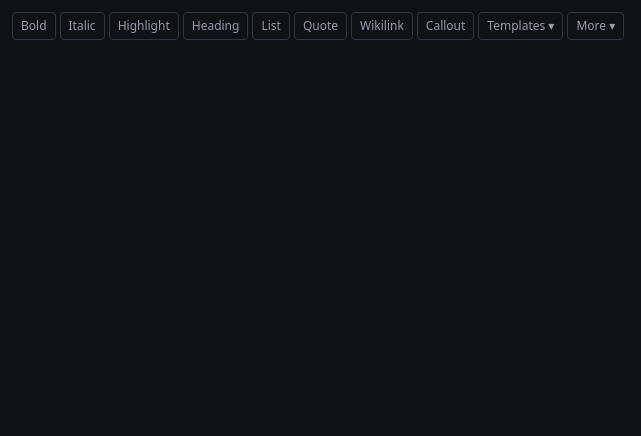
Test: FormatToolbar › hides the lower-frequency block actions until More is opened
Expected: the button "Footnote" is not shown
Expected: the button "Table" is not shown
Click the button "More ▾" at (596, 26), box [567, 12, 624, 40]
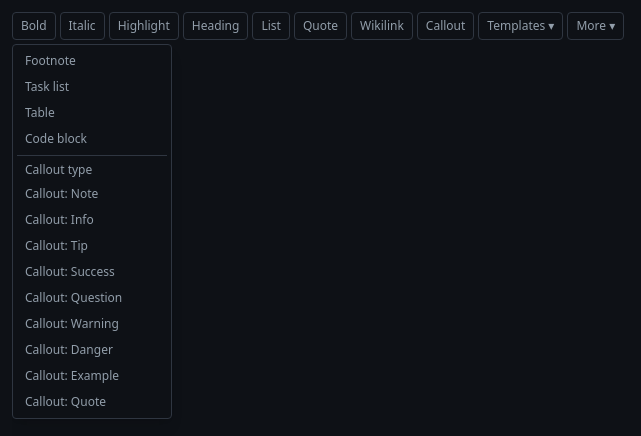
Expected: the button "Footnote" is shown, [17, 49, 167, 73]
Expected: the button "Task list" is shown, [17, 75, 167, 99]
Expected: the button "Table" is shown, [17, 101, 167, 125]
